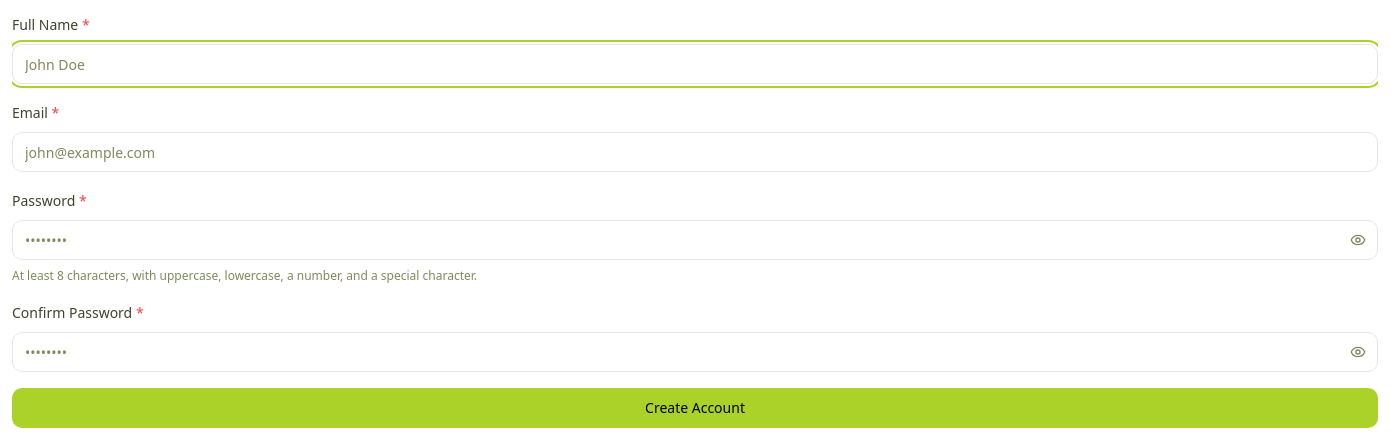
it: RegisterForm › strips non-letter characters as they're typed into the name field
Type "J0hn D03! Doe" into the field labelled "Full Name *" at (695, 64), box [12, 44, 1378, 84]
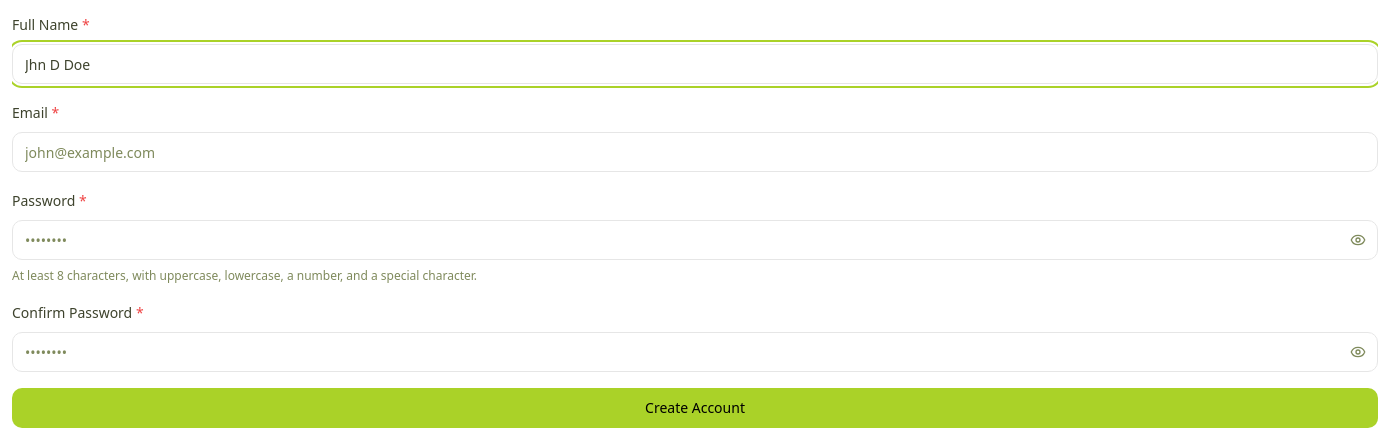
Expected: the field labelled "Full Name *" holds "Jhn D Doe", [12, 44, 1378, 84]
